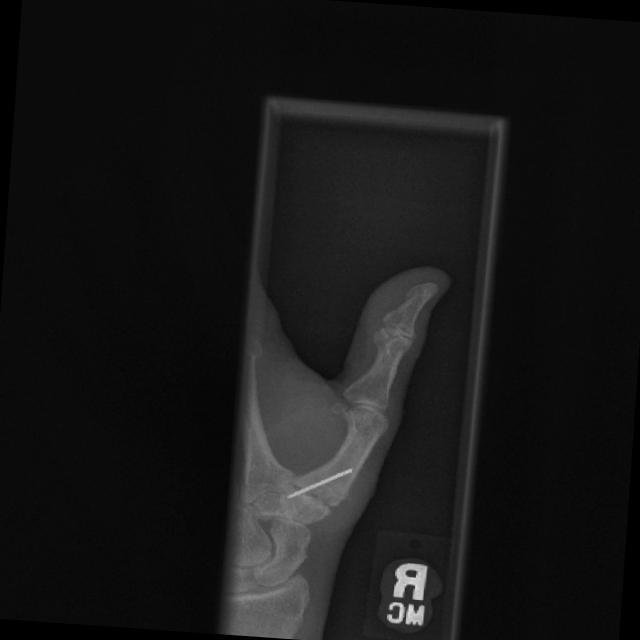fingers positive: (353, 291, 438, 377)
